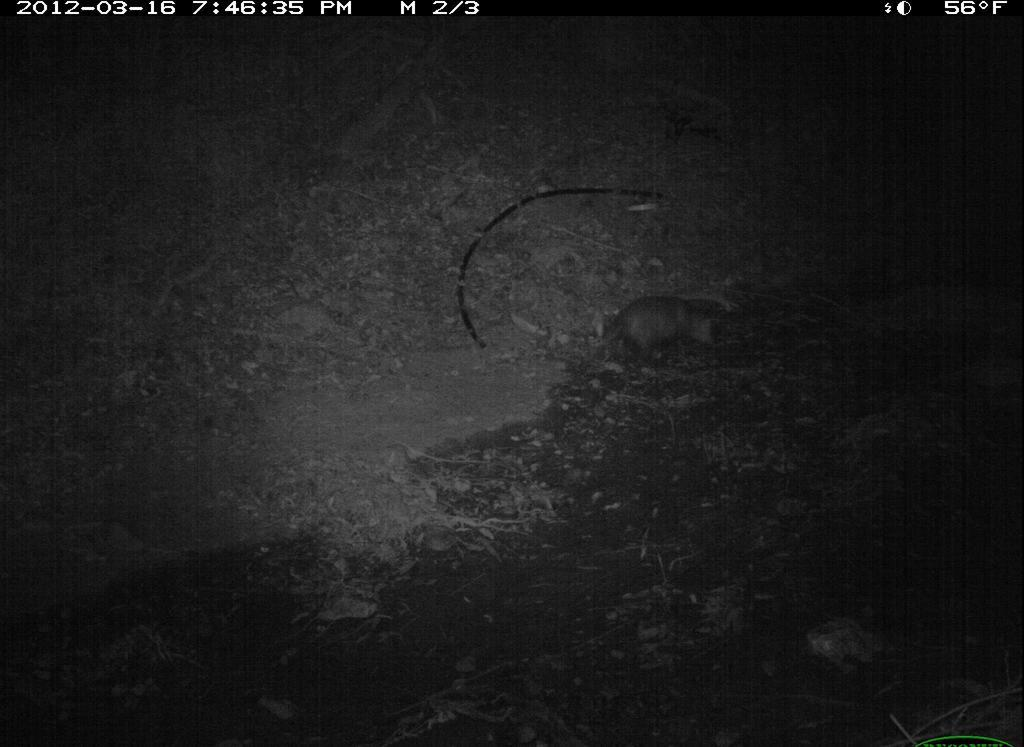opossum: (583, 291, 737, 379)
